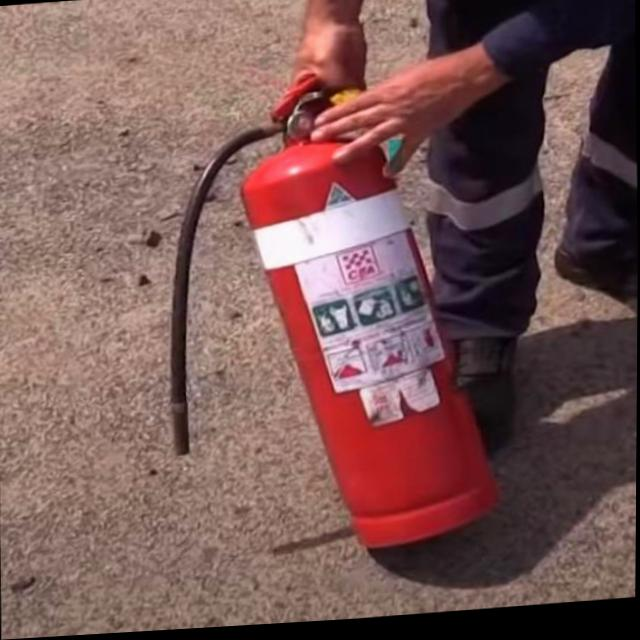FireExtinguisher: (146, 58, 513, 579)
